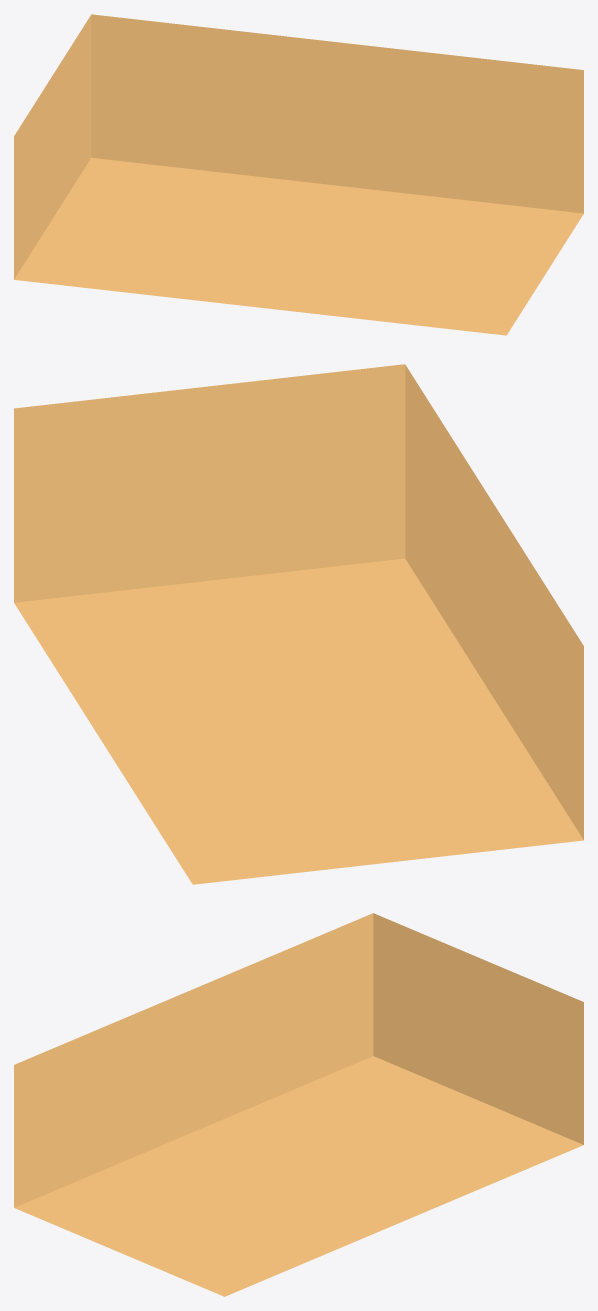
The model's file is amber-slab.glb.
The picture shows the model from 3 angles, top to bottom: view 1: azimuth 30°, elevation 25°; view 2: azimuth 150°, elevation 25°; view 3: azimuth 270°, elevation 25°; orthographic projection. The views are drawn at different scales.
Parts seen in each view (by area): view 1: AmberSlab; view 2: AmberSlab; view 3: AmberSlab.
Part boxes in pixels (bbox=[...]): AmberSlab: bbox=[14, 14, 583, 335]; AmberSlab: bbox=[14, 364, 583, 884]; AmberSlab: bbox=[14, 913, 583, 1296].
Bounding box in the file's own units: 2.28 × 0.63 × 2.28.
